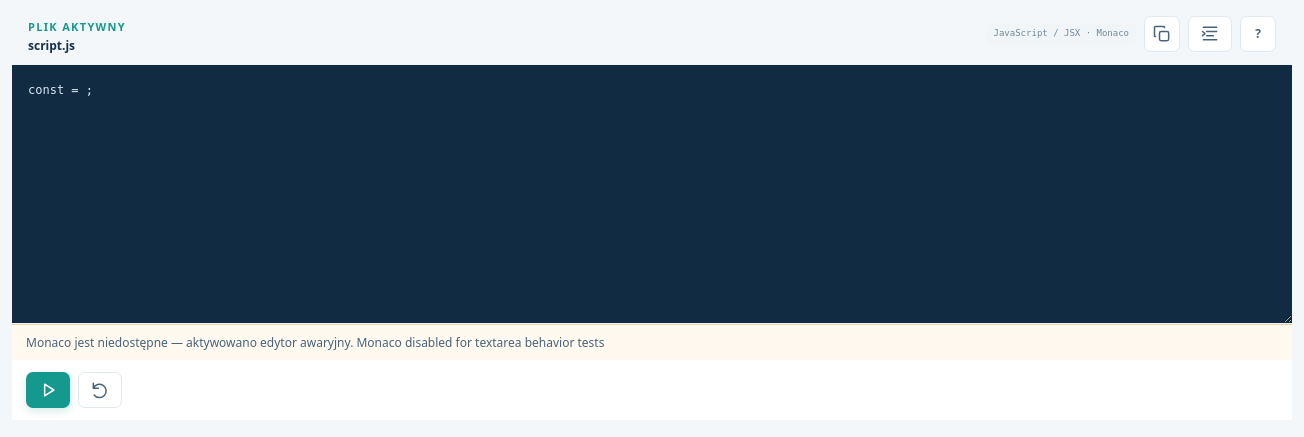
Test: invalid syntax is reported without replacing student code
The width and height of the screenshot is (1304, 437).
Expected: the text box is shown, [12, 64, 1292, 324]
What coordinates should you click on to do the following:
click the button named "Formatuj kod"
I would click on:
 (1210, 34)
Its box is [1188, 16, 1232, 52].
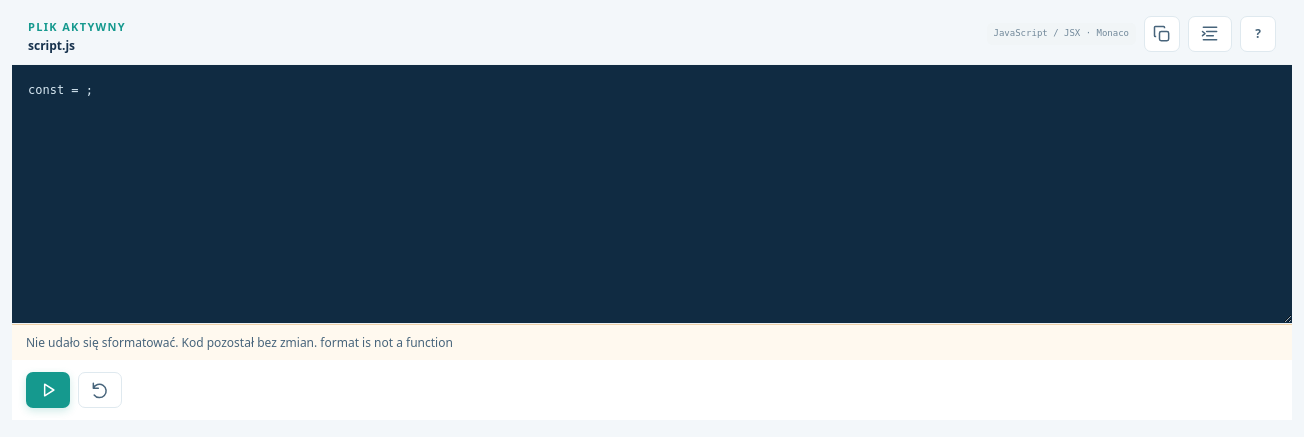
Expected: the text box holds "const = ;", [12, 64, 1292, 324]
Expected: the message shows "Nie udało się", [26, 334, 453, 351]
